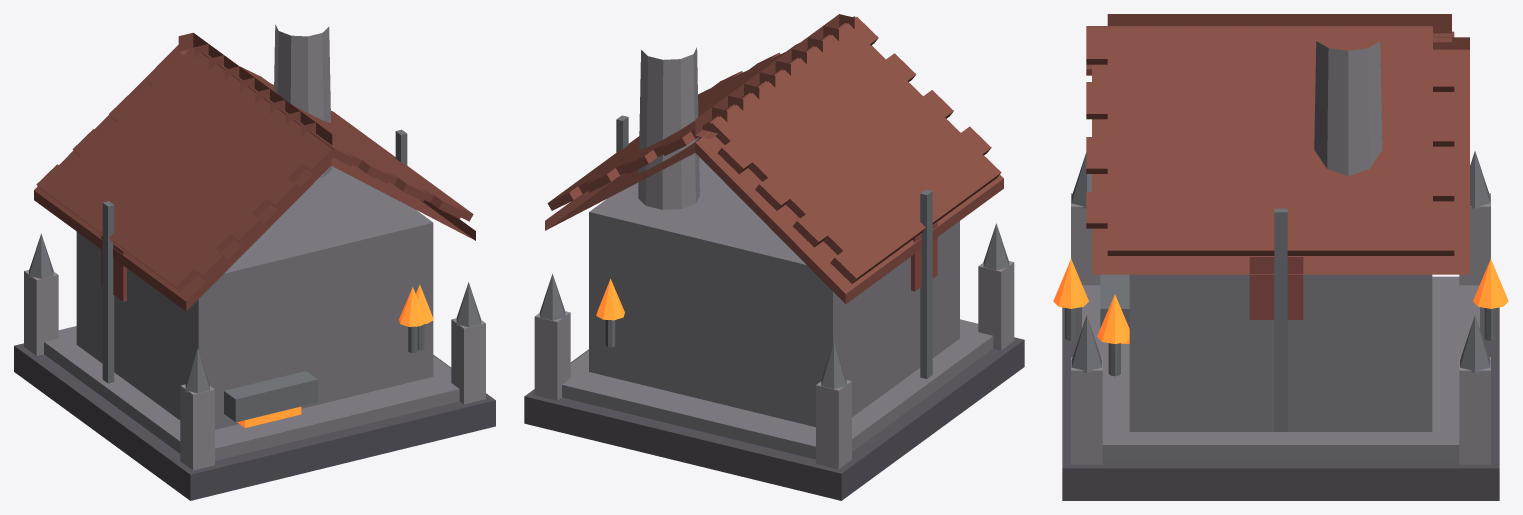
File: forge.glb
The picture shows the model from 3 angles, left to right: view 1: azimuth 30°, elevation 25°; view 2: azimuth 150°, elevation 25°; view 3: azimuth 270°, elevation 25°; orthographic projection. The views are drawn at different scales.
Visible parts, largest first — view 1: Forge; view 2: Forge; view 3: Forge.
Part boxes in pixels (box(x1,y1,x2,y2)): Forge: box(14, 24, 495, 500); Forge: box(524, 14, 1024, 500); Forge: box(1053, 14, 1508, 500).
Size of the model in its own units: 3.9 by 4.1 by 4.06.
